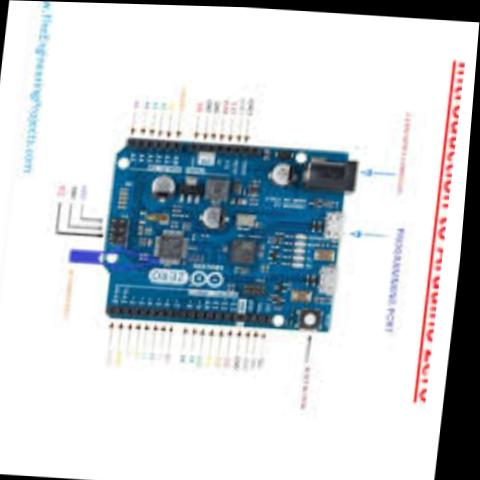Arduino-Zero: (64, 129, 376, 339)
